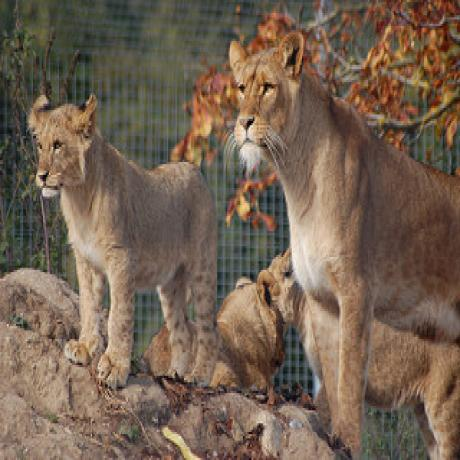Lion: (227, 28, 460, 460), (29, 96, 215, 389), (255, 242, 460, 460), (211, 269, 280, 395)
